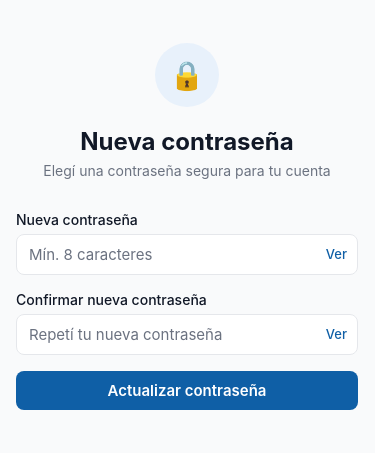
ResetPasswordScreen › shows error for mismatched passwords
The image size is (375, 453).
Type "newpassword" into the password field with placeholder "Mín. 8 caracteres" at [171, 254], box [17,234,326,274]
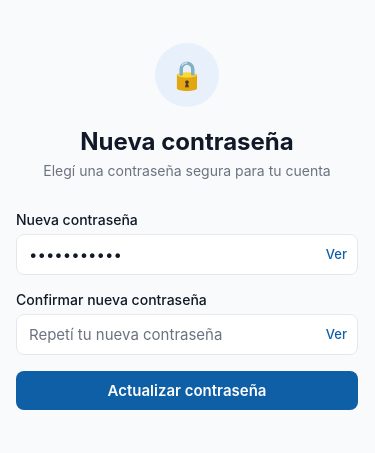
Type "different" into the password field with placeholder "Repetí tu nueva contraseña" at [171, 334], box [17,314,326,354]
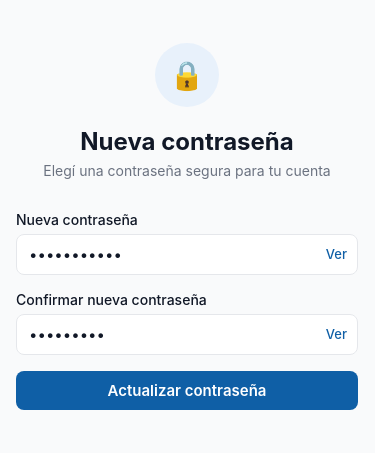
Click the text "Actualizar contraseña" at [187, 390], box [108,380,266,400]
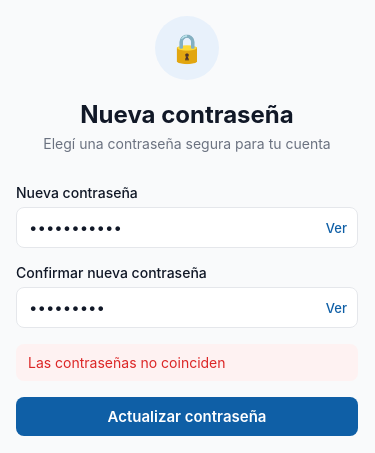
Check: the text "Las contraseñas no coinciden" is shown, box [28,354,226,371]
